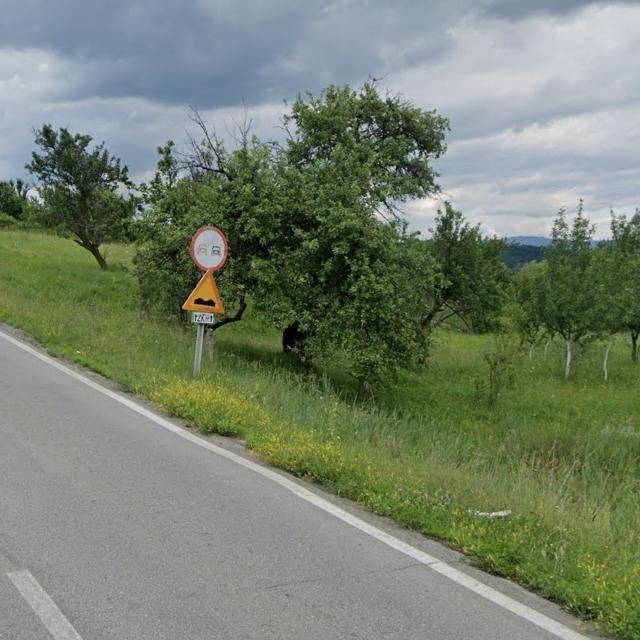forb_overtake: (190, 226, 228, 271)
